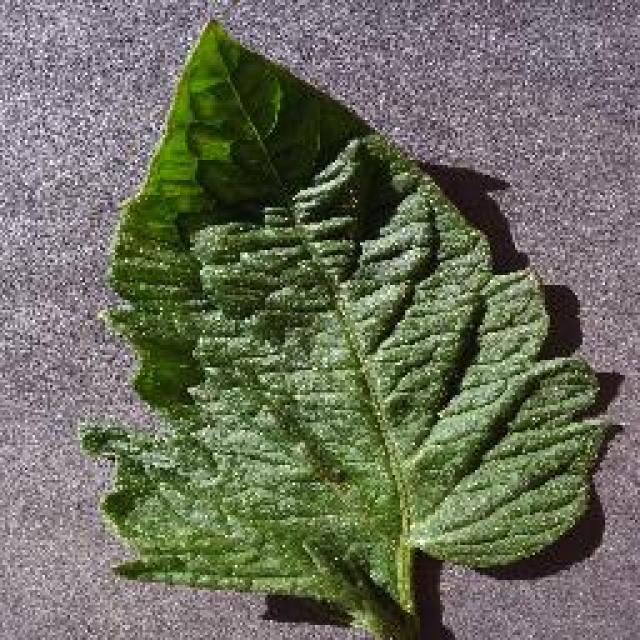healthy: (80, 13, 628, 640)
